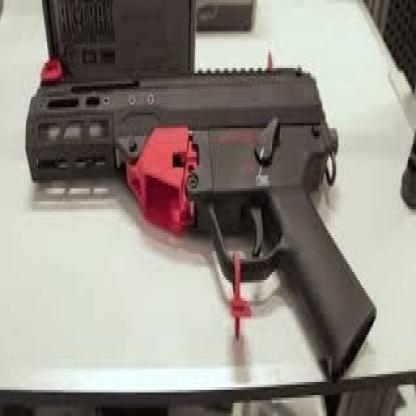Pistol: (20, 50, 380, 392)
